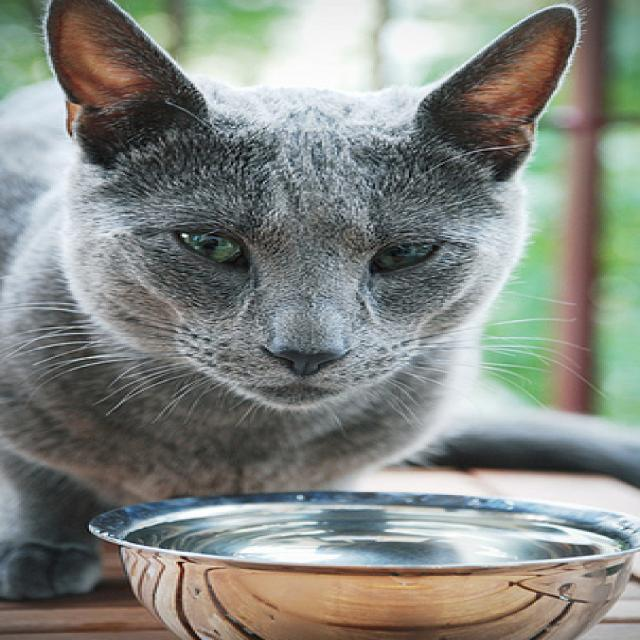Russian Blue: (0, 0, 587, 599)
